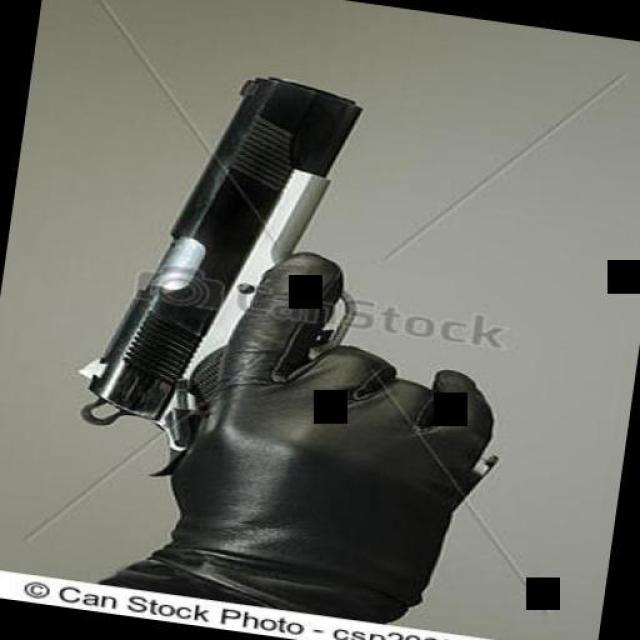gun: (45, 50, 535, 509)
